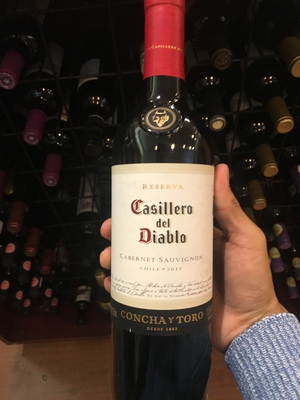casillero del diablo cabernet sauvignon: (94, 12, 215, 400)
